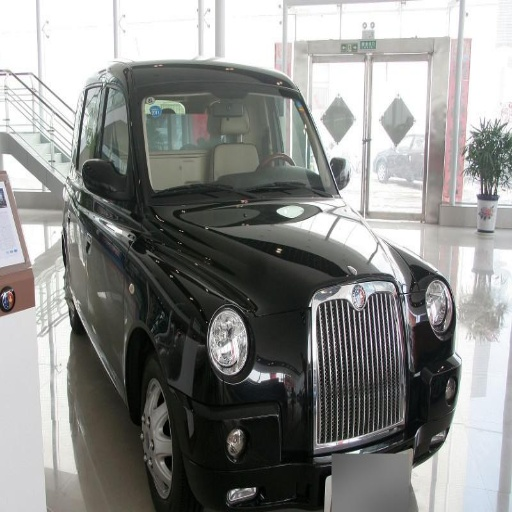front_bumper: (166, 277, 451, 511)
front_right_door: (90, 85, 129, 364)
front_right_light: (209, 326, 248, 367)
hood: (156, 192, 417, 314)
trunk: (119, 67, 186, 125)
